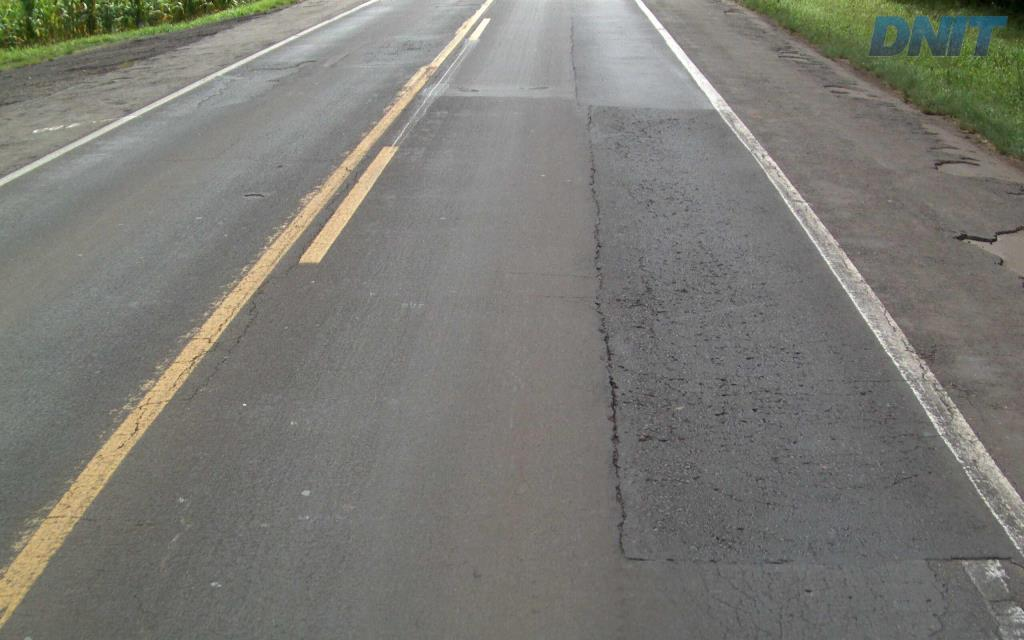crack: (614, 275, 667, 316)
